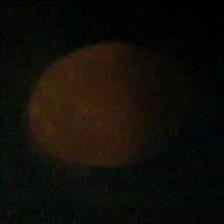fertile: (25, 38, 189, 170)
